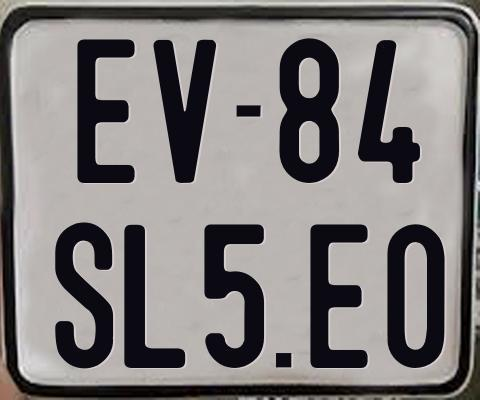0: (387, 223, 446, 368)
4: (355, 40, 419, 187)
5: (201, 222, 261, 366)
8: (276, 37, 339, 182)
E: (74, 36, 136, 184), (310, 224, 369, 368)
L: (122, 225, 187, 370)
S: (55, 220, 114, 372)
V: (152, 38, 217, 182)
